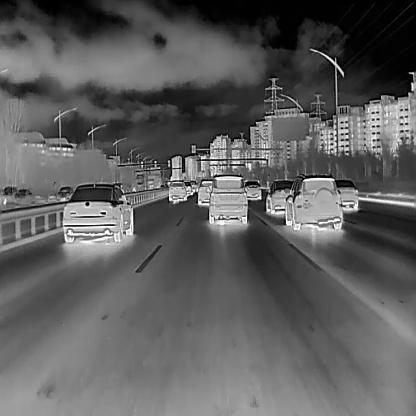car: (61, 181, 134, 242), (283, 173, 343, 231), (207, 172, 248, 224), (264, 176, 296, 214), (331, 178, 357, 210), (167, 178, 187, 201), (243, 177, 262, 201), (197, 178, 213, 204), (13, 187, 34, 203), (55, 185, 75, 201), (134, 170, 147, 189), (1, 184, 17, 199), (146, 175, 159, 189), (183, 181, 193, 197), (188, 180, 198, 194)
